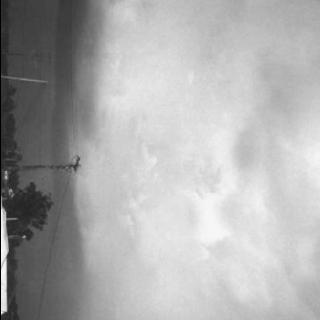Stratocumulus: (39, 0, 320, 320)
